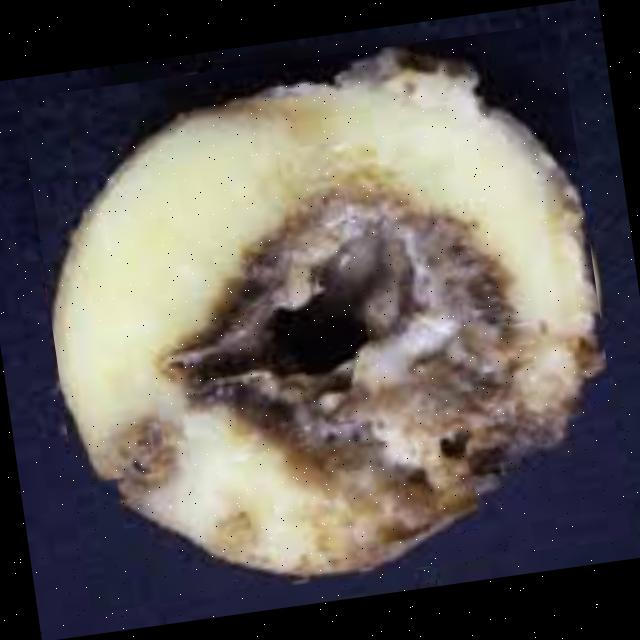Diseased-fungal potato: (21, 22, 632, 614)
